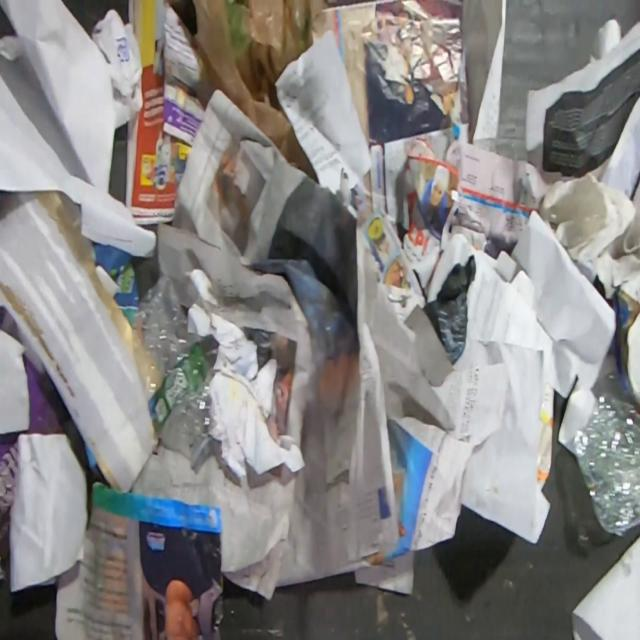cardboard: (0, 349, 68, 567), (534, 383, 554, 490)
rigid_plastic: (133, 274, 214, 475), (572, 393, 640, 536)
soft_plastic: (192, 0, 320, 182)
